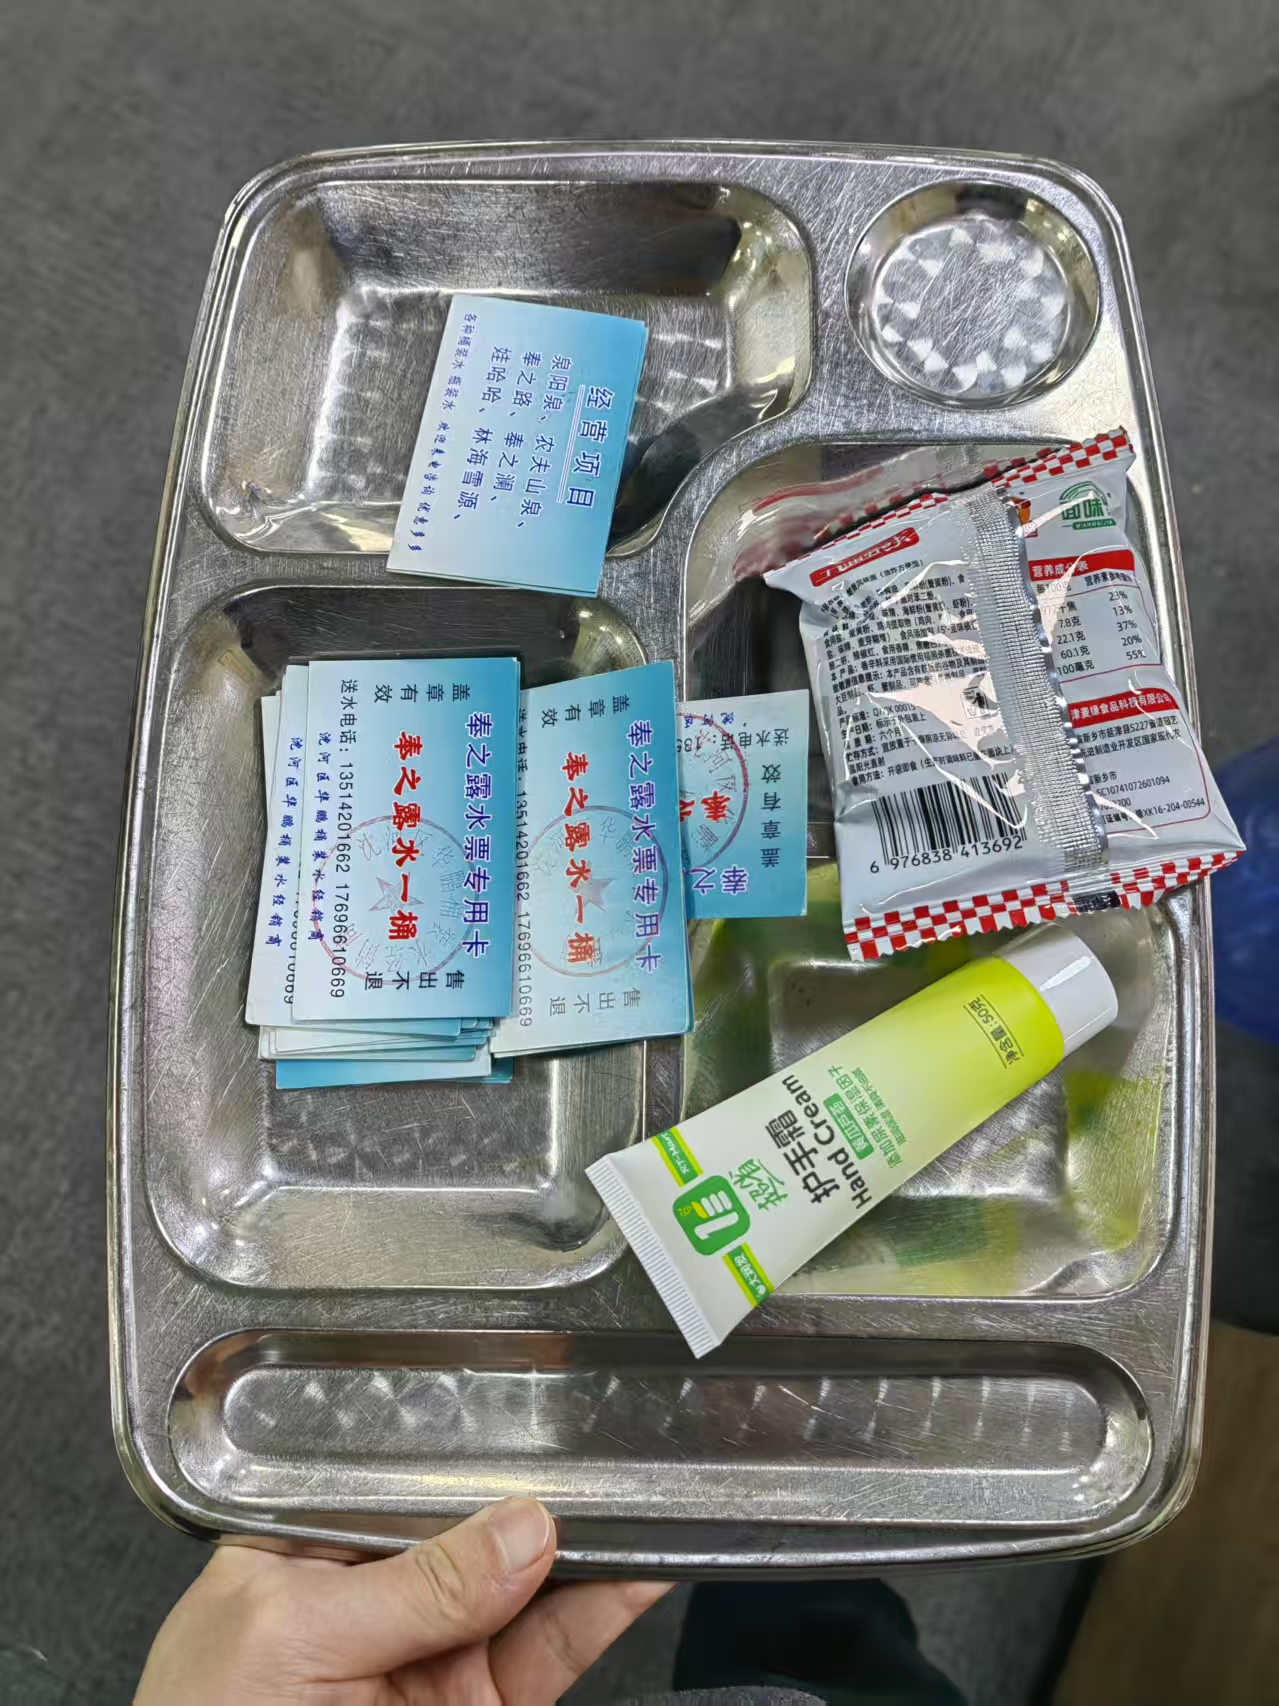plate: (108, 141, 1213, 1582)
severe: (239, 293, 1249, 1362)
